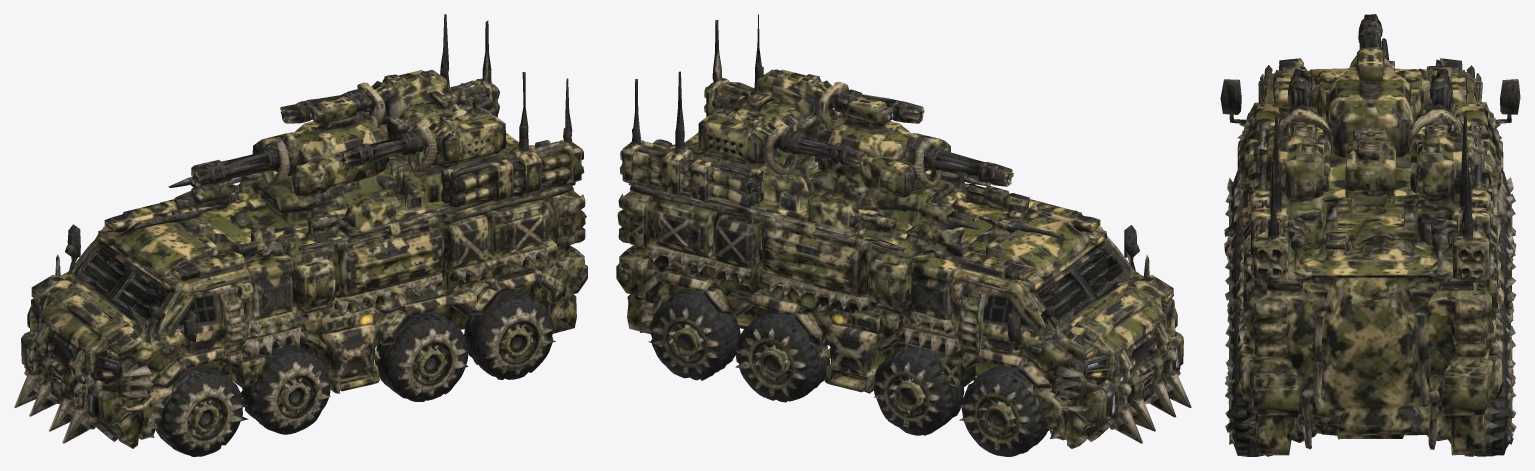
File: colossus.glb
3 renders of one model, left to right at view 1: azimuth 30°, elevation 25°; view 2: azimuth 150°, elevation 25°; view 3: azimuth 270°, elevation 25°, orthographic. The views are drawn at different scales.
Parts seen in each view (by area): view 1: Mesh_0; view 2: Mesh_0; view 3: Mesh_0.
Part boxes in pixels (x1,y1,x2,y2): Mesh_0: [14, 14, 587, 456]; Mesh_0: [616, 14, 1191, 456]; Mesh_0: [1220, 14, 1520, 456].
Size of the model in its own units: 1.88 by 1.04 by 0.8076.
1 material, 1 textured.
